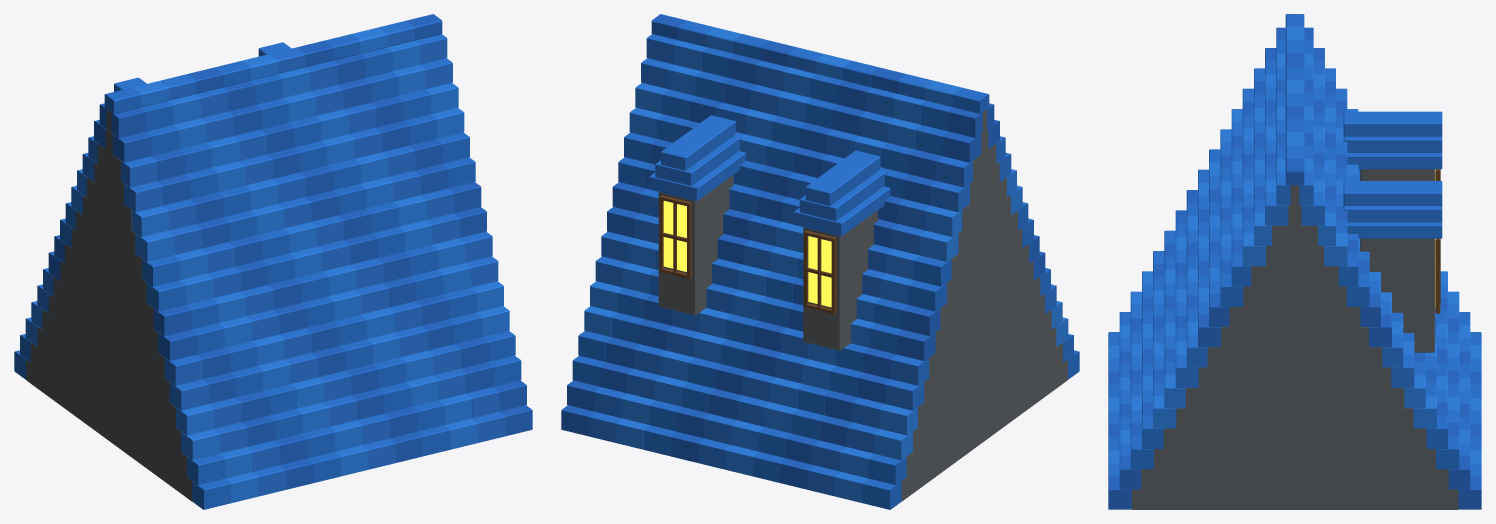
Rendered from blue-roof.glb.
The picture shows the model from 3 angles, left to right: view 1: azimuth 30°, elevation 25°; view 2: azimuth 150°, elevation 25°; view 3: azimuth 270°, elevation 25°; orthographic projection.
Visible parts, largest first — view 1: Hipped roof course lower 00, Hipped roof course upper 00, Hipped roof course lower 01, Hipped roof course upper 01, Hipped roof course lower 02, Hipped roof course upper 02, Hipped roof course lower 03, Hipped roof course upper 03, Hipped roof course lower 04, Hipped roof course upper 04, Hipped roof course lower 05, Hipped roof course upper 05 (+5 smaller); view 2: Hipped roof course lower 00, Hipped roof course upper 00, Hipped roof course lower 01, Hipped roof course upper 01, Hipped roof course lower 02, Hipped roof course upper 02, Hipped roof course lower 07, Hipped roof course upper 06, Hipped roof course upper 07, Hipped roof course lower 03, Hipped roof course upper 03, Hipped roof course lower 04 (+15 smaller); view 3: Hipped roof course lower 00, Hipped roof course upper 00, Hipped roof course lower 01, Hipped roof course upper 01, Hipped roof course lower 02, Hipped roof course upper 02, Hipped roof course lower 03, Hipped roof course upper 03, Hipped roof course lower 04, Hipped roof course upper 04, Hipped roof course lower 06, Hipped roof course lower 05 (+13 smaller).
Boxes of the visible parts, <box> form: Hipped roof course lower 00: <box>14,350,532,509</box>; Hipped roof course upper 00: <box>20,334,526,484</box>; Hipped roof course lower 01: <box>25,317,521,460</box>; Hipped roof course upper 01: <box>31,301,515,435</box>; Hipped roof course lower 02: <box>37,284,509,410</box>; Hipped roof course upper 02: <box>43,268,503,385</box>; Hipped roof course lower 03: <box>48,251,498,361</box>; Hipped roof course upper 03: <box>54,231,492,336</box>; Hipped roof course lower 04: <box>60,207,486,311</box>; Hipped roof course upper 04: <box>65,182,481,286</box>; Hipped roof course lower 05: <box>71,157,475,261</box>; Hipped roof course upper 05: <box>77,132,469,237</box>; Hipped roof course lower 00: <box>561,350,1079,509</box>; Hipped roof course upper 00: <box>567,334,1073,484</box>; Hipped roof course lower 01: <box>572,317,1068,460</box>; Hipped roof course upper 01: <box>578,301,1062,435</box>; Hipped roof course lower 02: <box>584,284,1056,410</box>; Hipped roof course upper 02: <box>590,268,1050,385</box>; Hipped roof course lower 07: <box>641,58,999,162</box>; Hipped roof course upper 06: <box>635,83,1005,187</box>; Hipped roof course upper 07: <box>646,34,994,137</box>; Hipped roof course lower 03: <box>595,251,1045,361</box>; Hipped roof course upper 03: <box>601,231,1039,336</box>; Hipped roof course lower 04: <box>607,207,1033,311</box>; Hipped roof course lower 00: <box>1108,332,1481,509</box>; Hipped roof course upper 00: <box>1119,312,1470,489</box>; Hipped roof course lower 01: <box>1130,291,1459,469</box>; Hipped roof course upper 01: <box>1142,271,1447,448</box>; Hipped roof course lower 02: <box>1153,251,1436,428</box>; Hipped roof course upper 02: <box>1164,230,1425,408</box>; Hipped roof course lower 03: <box>1175,210,1414,388</box>; Hipped roof course upper 03: <box>1186,190,1403,367</box>; Hipped roof course lower 04: <box>1198,169,1391,347</box>; Hipped roof course upper 04: <box>1209,149,1380,327</box>; Hipped roof course lower 06: <box>1242,88,1347,266</box>; Hipped roof course lower 05: <box>1220,129,1369,306</box>.
Size of the model in its own units: 1 by 1 by 1.
7 materials, 1 textured.
